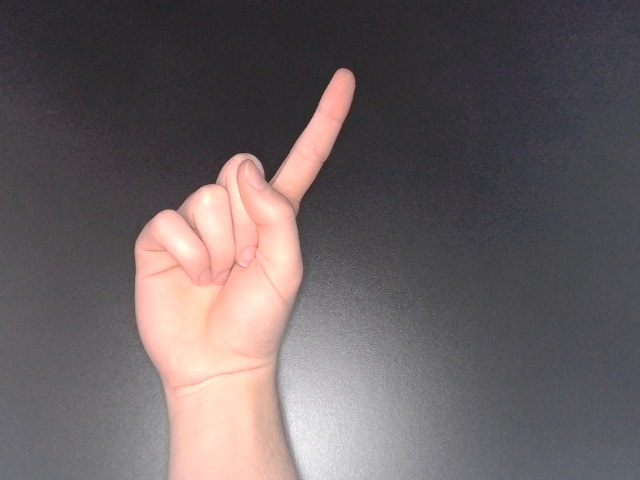z: (126, 64, 362, 412)
